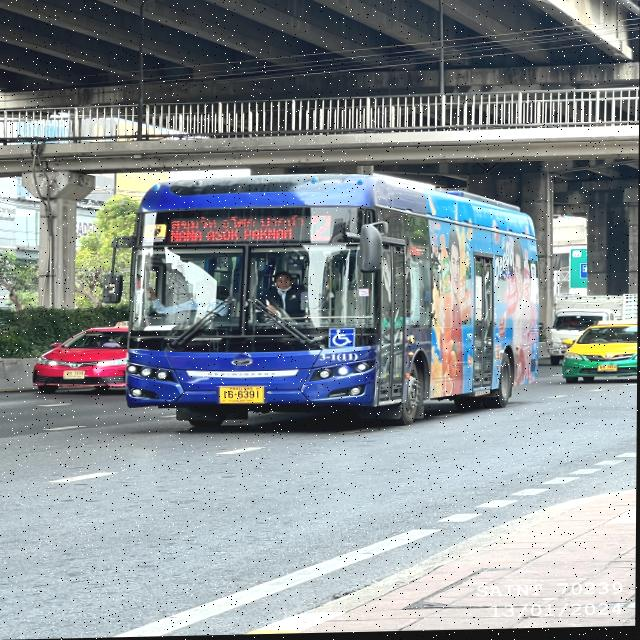Bus-Line-Number: (308, 213, 335, 246)
Destination-Sign-Normal: (167, 212, 306, 249)
TSB-Bus: (124, 165, 545, 434)
